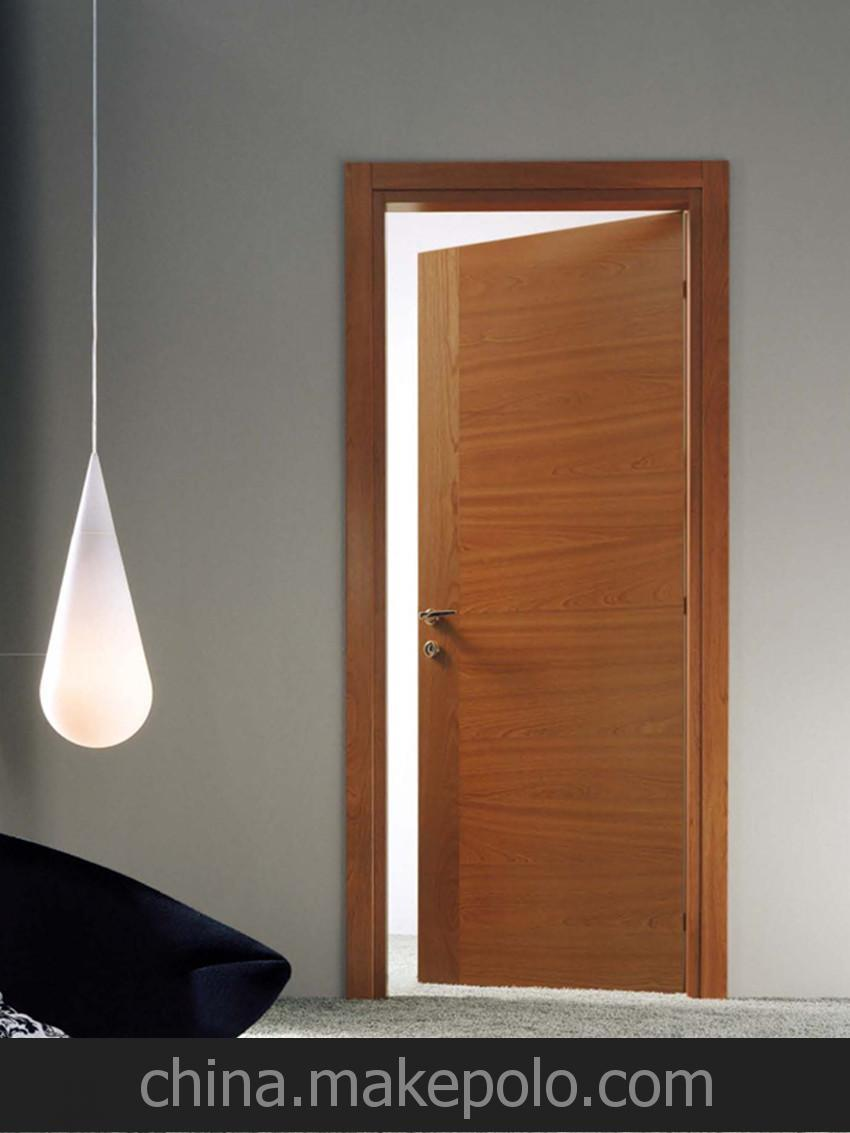door: (361, 181, 717, 1005)
